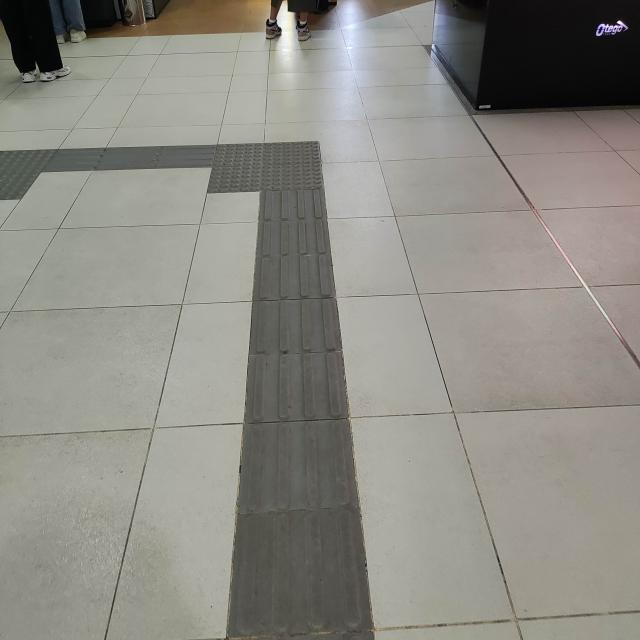kiri: (153, 105, 335, 228)
